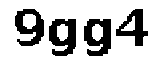4: (115, 5, 152, 54)
9: (11, 6, 45, 48)
g: (81, 14, 115, 60), (48, 13, 78, 60)
